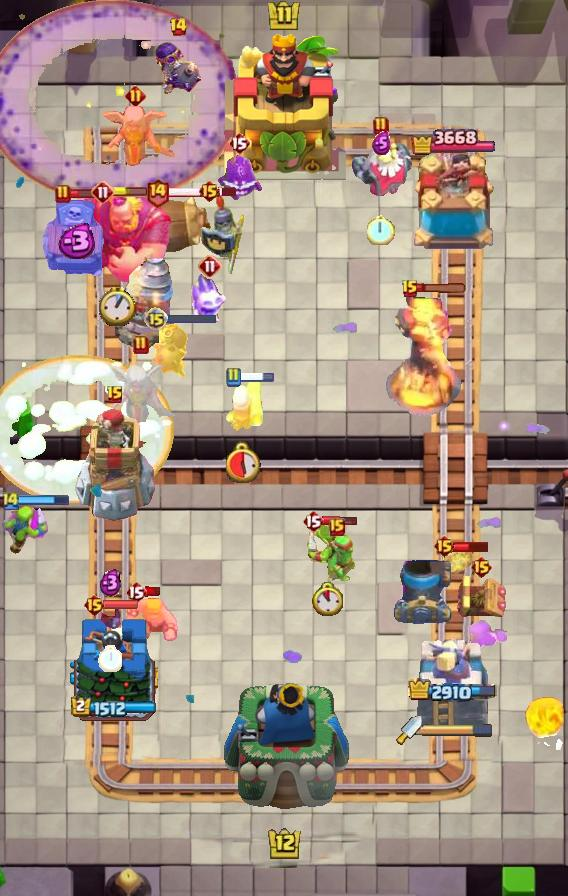archer: (126, 597, 180, 645)
bar: (416, 637, 490, 731)
barbarian-barrel: (97, 601, 123, 631)
electro-dragon: (384, 291, 462, 419)
electro-spirit: (53, 223, 97, 259), (99, 568, 122, 597), (372, 131, 391, 155)
elixir: (226, 441, 262, 483), (99, 286, 136, 326), (313, 582, 343, 616), (367, 214, 395, 245), (98, 644, 122, 672)
elixir-golem-mid: (40, 199, 110, 285)
emote: (165, 313, 217, 325), (18, 494, 70, 506), (167, 187, 221, 198), (416, 283, 468, 294), (239, 371, 276, 385), (454, 539, 491, 553), (70, 189, 107, 200), (322, 514, 358, 525), (103, 598, 139, 609), (112, 187, 148, 197), (218, 187, 238, 198), (146, 586, 163, 597)
giant-snowball: (315, 534, 359, 584)
goblin-ball: (153, 41, 203, 95), (150, 322, 190, 380)
goblin-brawler: (454, 571, 508, 621)
ice-spirit-evolution: (440, 548, 474, 576)
king-tower: (219, 678, 349, 826), (222, 31, 346, 181)
king-tower-bar: (422, 723, 494, 737)
lightning: (61, 188, 174, 284)
magic-archer: (115, 257, 175, 349)
mirror: (190, 274, 230, 324)
mortar-evolution: (350, 136, 412, 196)
musketeer: (392, 560, 452, 624)
phoenix-big: (0, 355, 174, 503)
poison: (91, 95, 179, 175), (97, 357, 185, 431)
princess: (197, 194, 247, 278)
queen-tower: (70, 616, 158, 731), (405, 154, 501, 256)
rocket: (0, 0, 240, 203)
selected: (411, 126, 495, 158), (409, 678, 500, 705), (70, 696, 157, 718)
spear-goblin: (215, 153, 263, 205)
text: (146, 177, 170, 208), (91, 180, 115, 204), (198, 254, 222, 278), (144, 307, 168, 331), (198, 179, 221, 203), (432, 534, 455, 558), (471, 555, 494, 579), (83, 593, 106, 617), (228, 131, 250, 155), (302, 509, 324, 533), (125, 580, 147, 604), (126, 85, 147, 107), (1, 490, 21, 511), (168, 17, 187, 37), (401, 279, 419, 299), (106, 385, 124, 405), (373, 116, 389, 136), (55, 184, 71, 204), (133, 335, 149, 355), (225, 367, 241, 387), (329, 518, 345, 536)
the-log: (129, 193, 213, 255)
tombstone: (223, 375, 265, 433)
valkyrie: (521, 690, 568, 750)
zap: (0, 504, 52, 554), (306, 524, 348, 572)
zappy: (73, 407, 158, 523)
